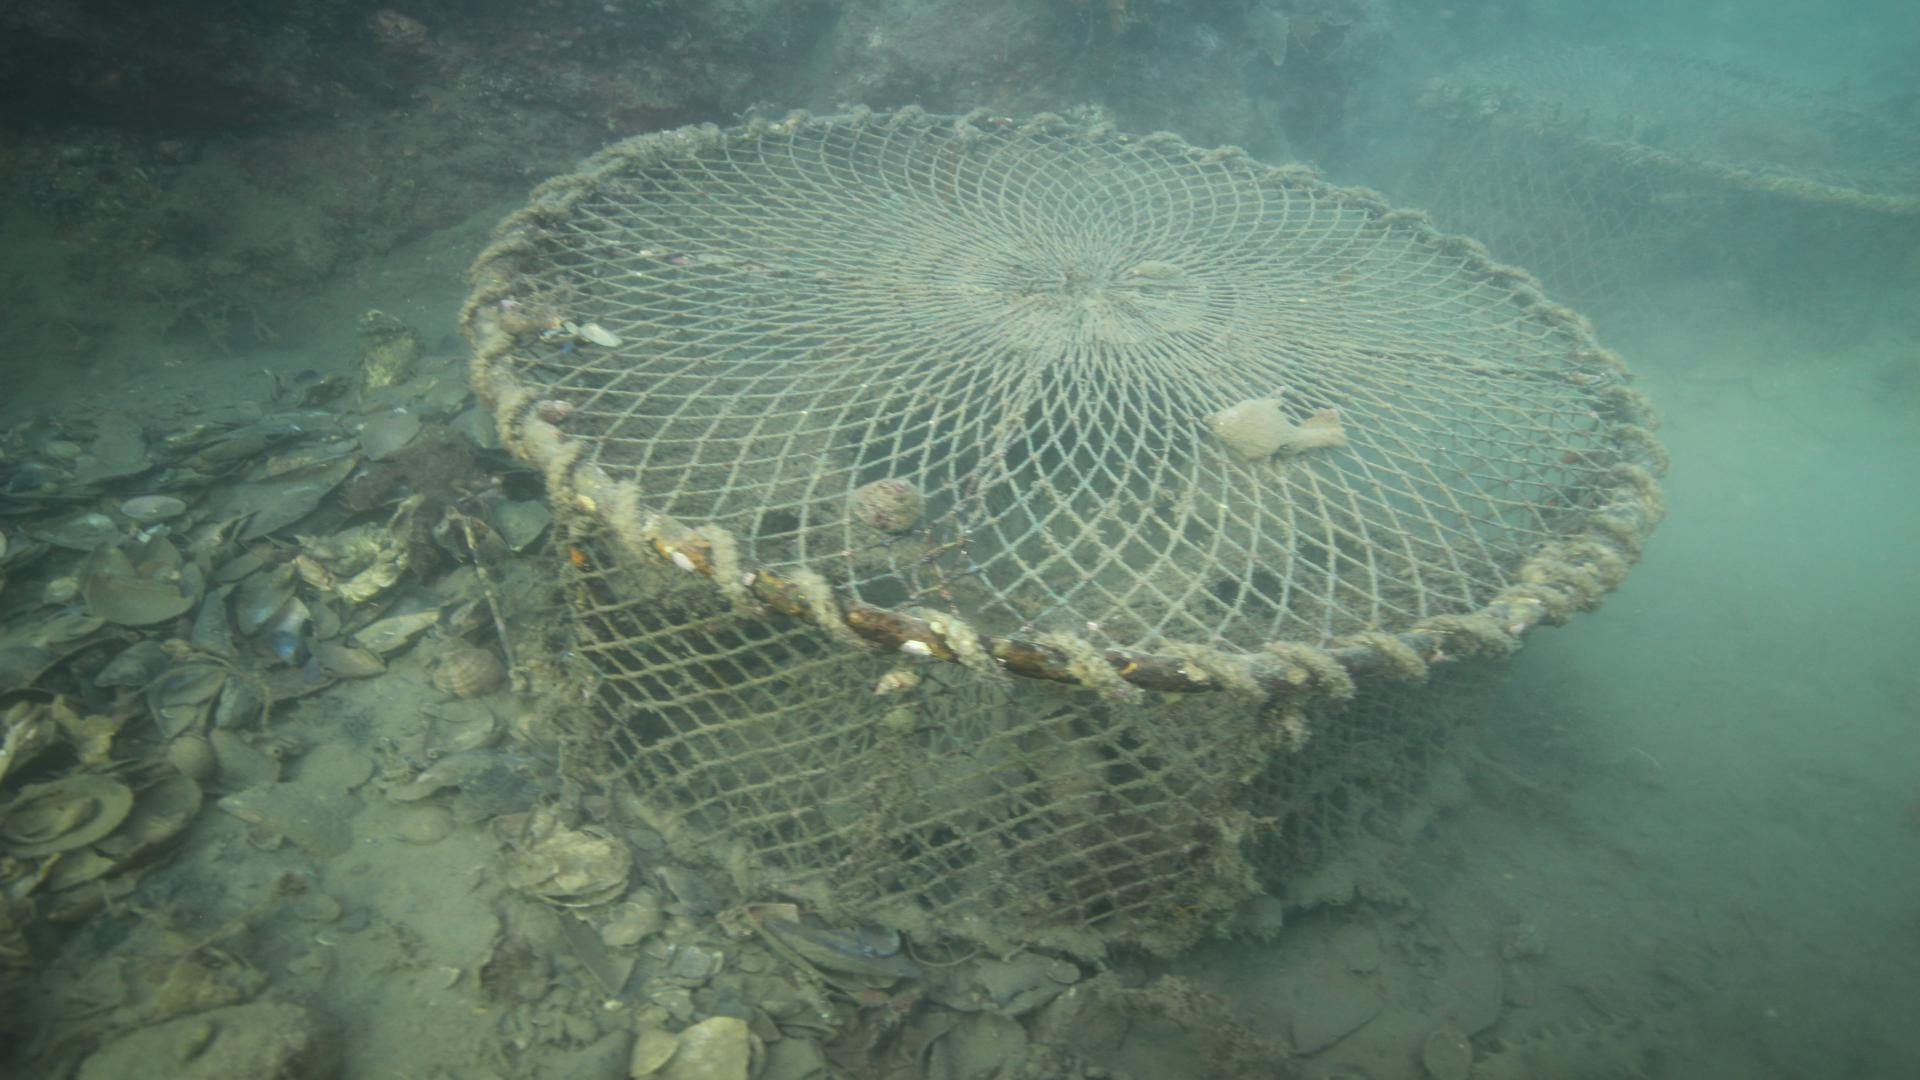circular fish trap: (454, 100, 1667, 963)
